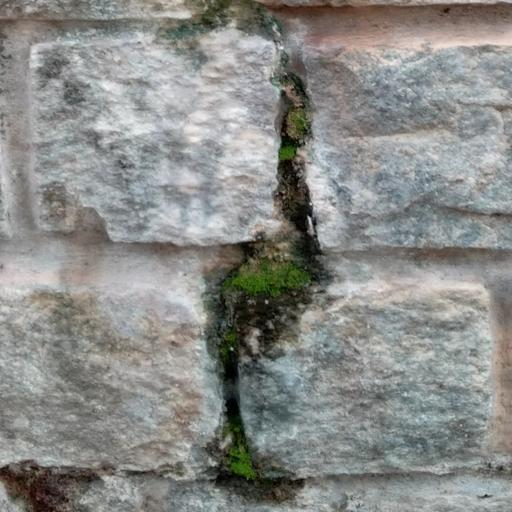major_crack: (184, 0, 339, 509)
